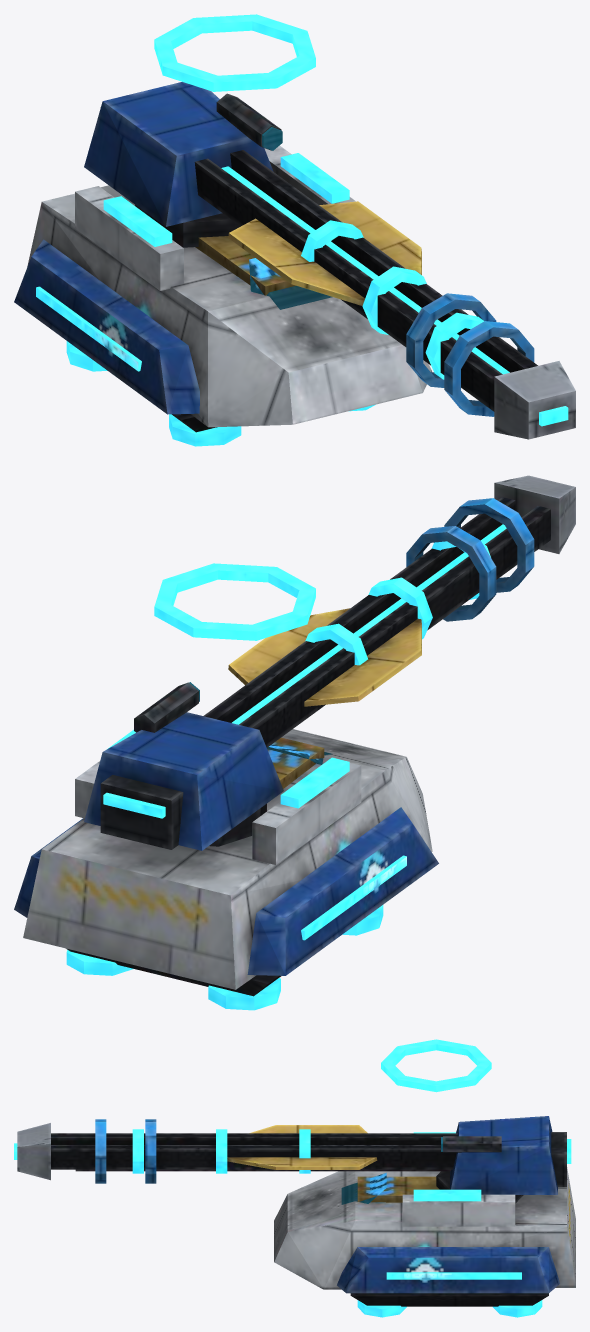
The model's file is u_lancer4_w.glb.
3 views of the same model, one above another, from view 1: azimuth 30°, elevation 25°; view 2: azimuth 150°, elevation 25°; view 3: azimuth 270°, elevation 25° (orthographic). The views are drawn at different scales.
Parts seen in each view (by area): view 1: u_lancer4_w; view 2: u_lancer4_w; view 3: u_lancer4_w.
Part boxes in pixels (x1,y1,x2,y2): u_lancer4_w: (14, 14, 575, 446); u_lancer4_w: (14, 475, 575, 1010); u_lancer4_w: (14, 1039, 575, 1317).
Bounding box in the file's own units: 1.11 × 1.31 × 3.02.
1 material, 1 textured.
